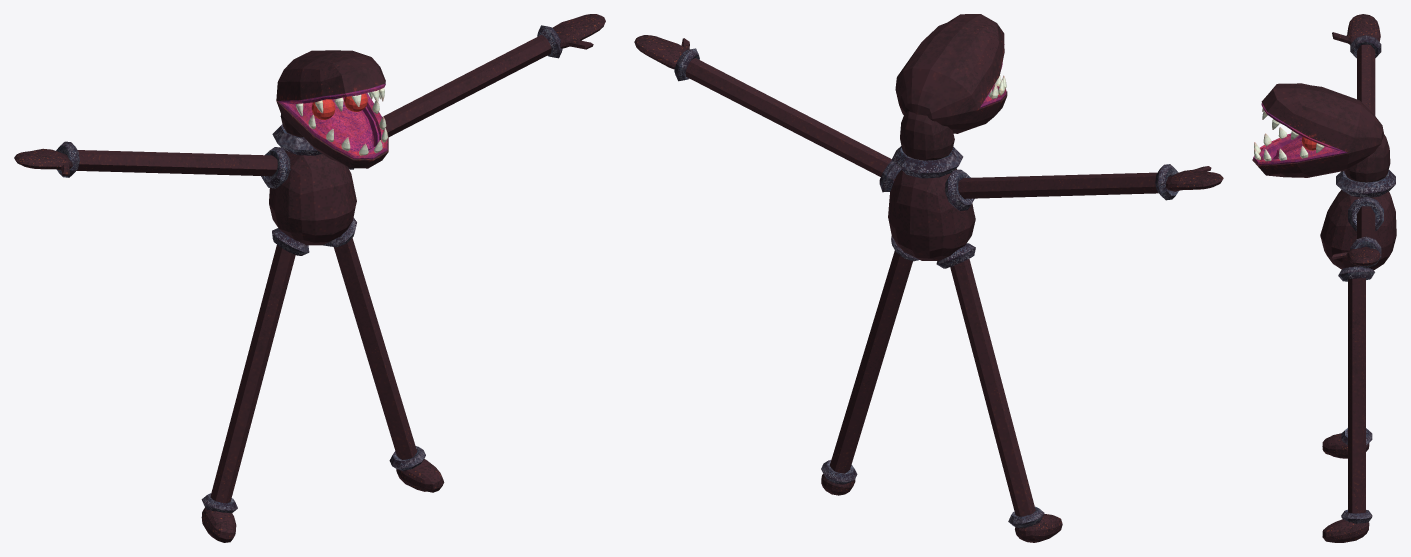
Rendered from Wiwi_04.fbx.
3 renders of one model, left to right at view 1: azimuth 30°, elevation 25°; view 2: azimuth 150°, elevation 25°; view 3: azimuth 270°, elevation 25°, orthographic. The views are drawn at different scales.
Parts seen in each view (by area): view 1: Cube.026; view 2: Cube.026; view 3: Cube.026.
Part boxes in pixels (x1=…): Cube.026: x1=14, y1=14, x2=605, y2=542; Cube.026: x1=634, y1=14, x2=1223, y2=542; Cube.026: x1=1252, y1=14, x2=1396, y2=542.
Bounding box in the file's own units: 1330 × 1026 × 327.
Materials: 1 (1 with a texture image).
